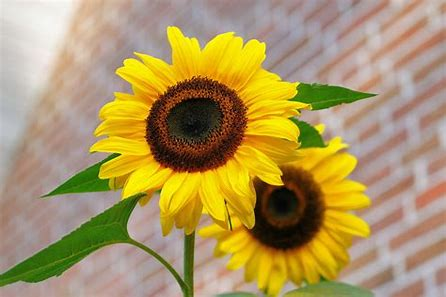inorganic: (65, 22, 409, 292)
